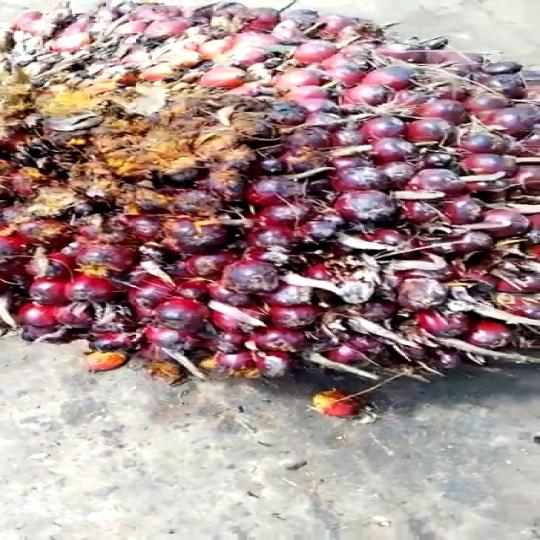masak: (0, 0, 540, 425)
